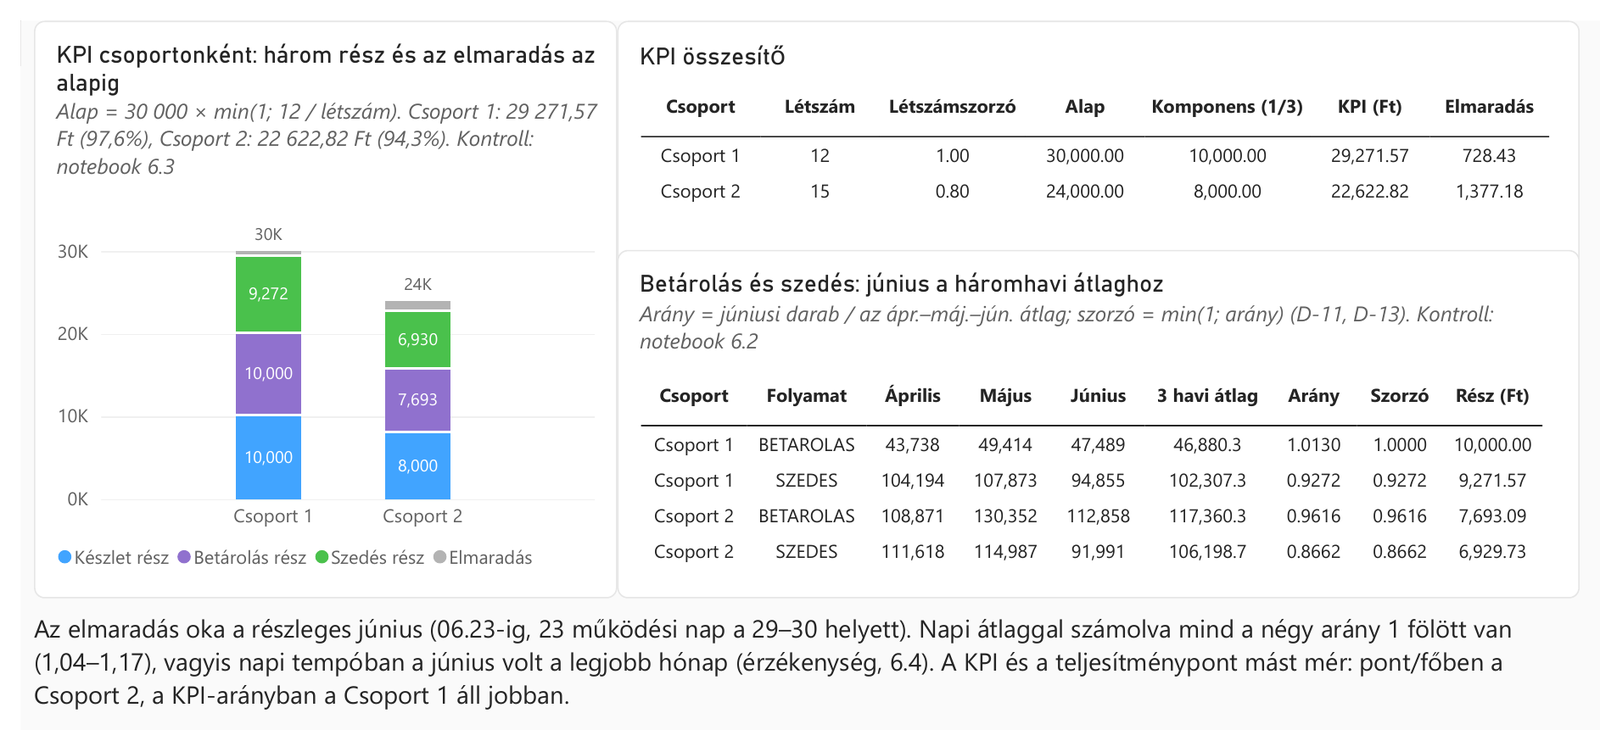

The page's visual inventory and layout, read from the dashboard file:
{"tool":"powerbi","page":{"name":"KPI","canvas":[1920,1080],"ordinal":3},"visuals":[{"type":"columnChart","title":"KPI csoportonként: három rész és az elmaradás az alapig","fields":{"Category":["KPI.Csoport"],"Y":["Sum(KPI.Keszlet_resz)","Sum(KPI.Betarolas_resz)","Sum(KPI.Szedes_resz)","Sum(KPI.Elmaradas)"]},"box":[10,0,440,435.7],"z":0},{"type":"tableEx","title":"KPI összesítő","fields":{"Values":["KPI.Csoport","Sum(KPI.Letszam)","Sum(KPI.Letszam_szorzo)","Sum(KPI.Alap)","Sum(KPI.Komponens)","Sum(KPI.KPI)","Sum(KPI.Elmaradas)"]},"box":[450,0,725.7,218.6],"z":1000},{"type":"tableEx","title":"Betárolás és szedés: június a háromhavi átlaghoz","fields":{"Values":["KPIHavi.Csoport","KPIHavi.statusz","Sum(KPIHavi.Darab_04)","Sum(KPIHavi.Darab_05)","Sum(KPIHavi.Darab_06)","Sum(KPIHavi.Atlag)","Sum(KPIHavi.Arany)","Sum(KPIHavi.Szorzo)","Sum(KPIHavi.Resz)"]},"box":[450,172.9,725.7,262.9],"z":2000},{"type":"textbox","box":[10,445.7,1165.7,94.3],"z":3000}]}

Visuals, with their boxes on the page's 1920x1080 design canvas (x1, y1, x2, y2). These are canvas units, not pixel positions in the 1600x730 screenshot, which may show the page scaled, cropped or inside an application window:
"KPI csoportonként: három rész és az elmaradás az alapig" columnChart: 10/0/450/436
"KPI összesítő" tableEx: 450/0/1176/219
"Betárolás és szedés: június a háromhavi átlaghoz" tableEx: 450/173/1176/436
textbox: 10/446/1176/540
